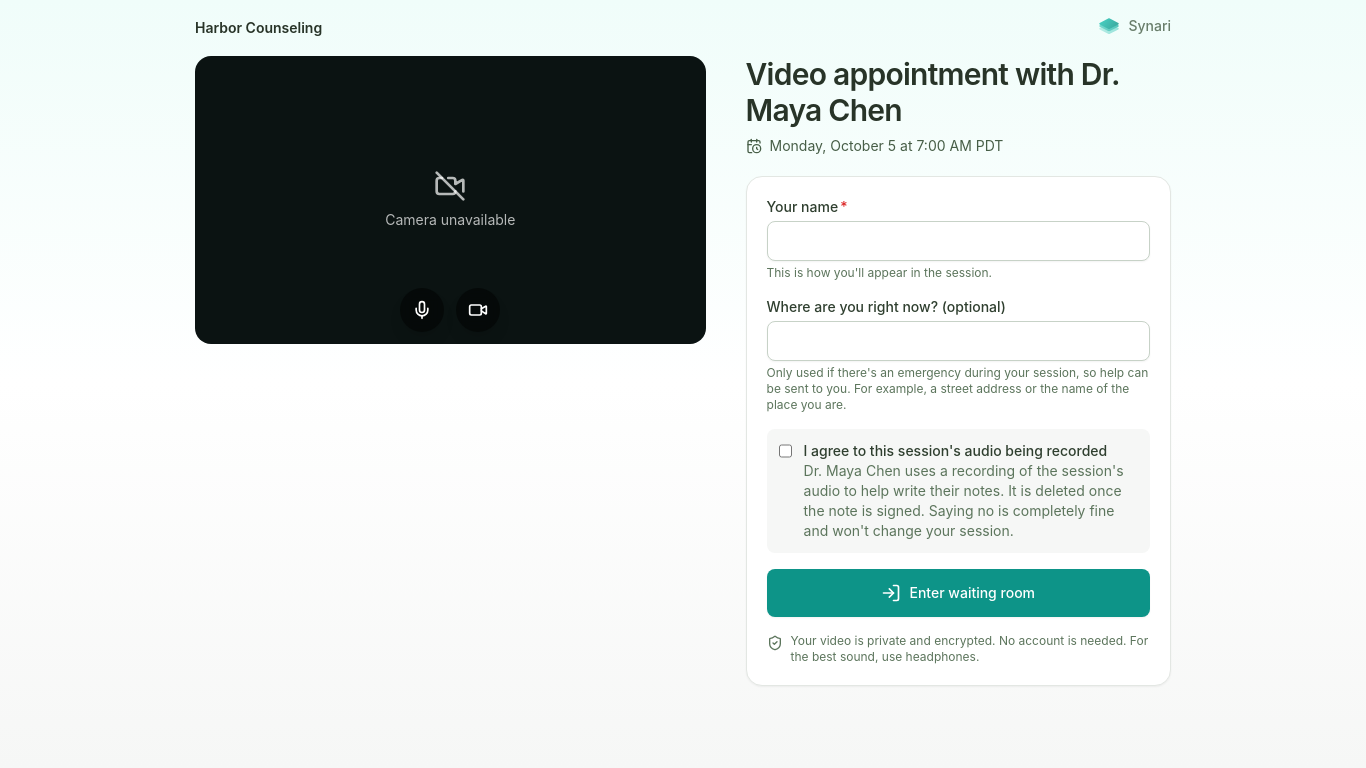
Scenario: guest join form › shows the server message when checking in is refused
Type "Alex" into the field labelled "Your name*" at [958, 241], box [766, 221, 1150, 261]
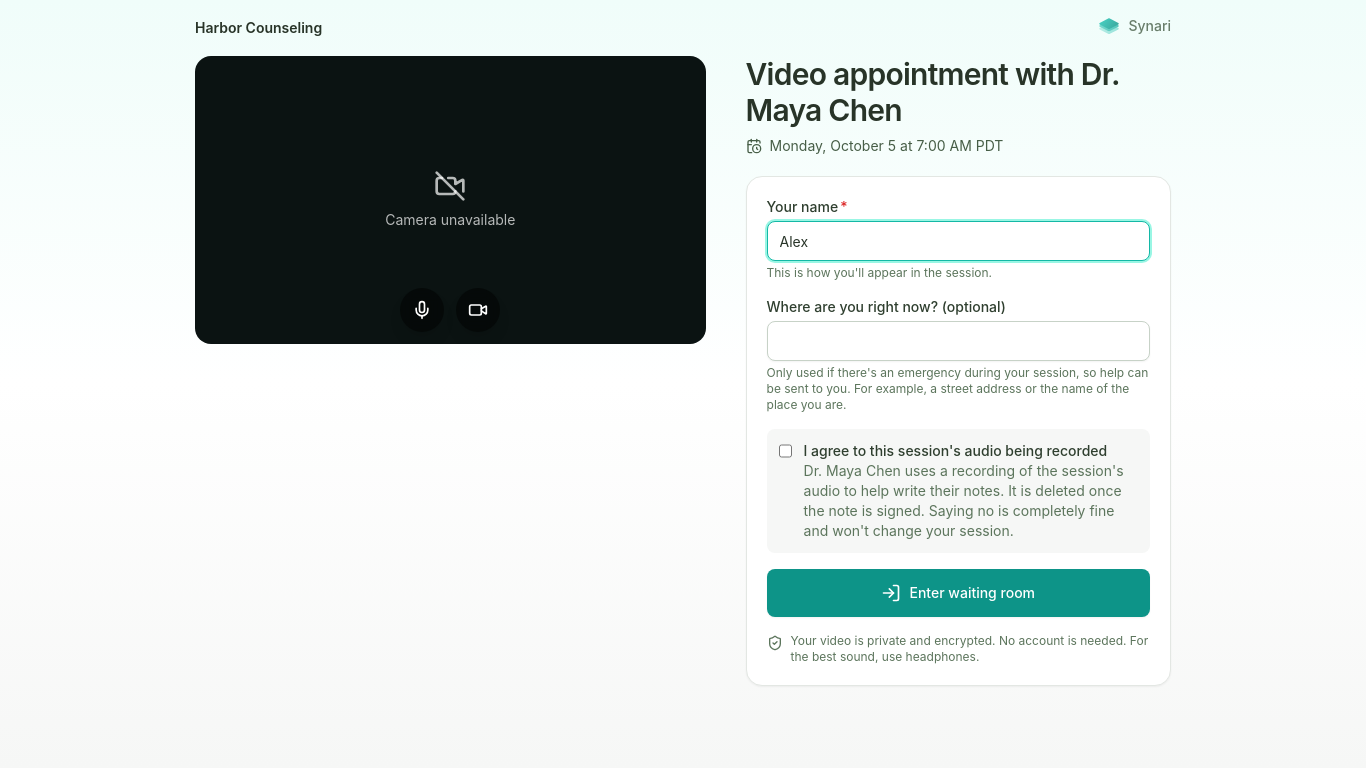
Click the button "Enter waiting room" at [958, 593], box [766, 569, 1150, 617]
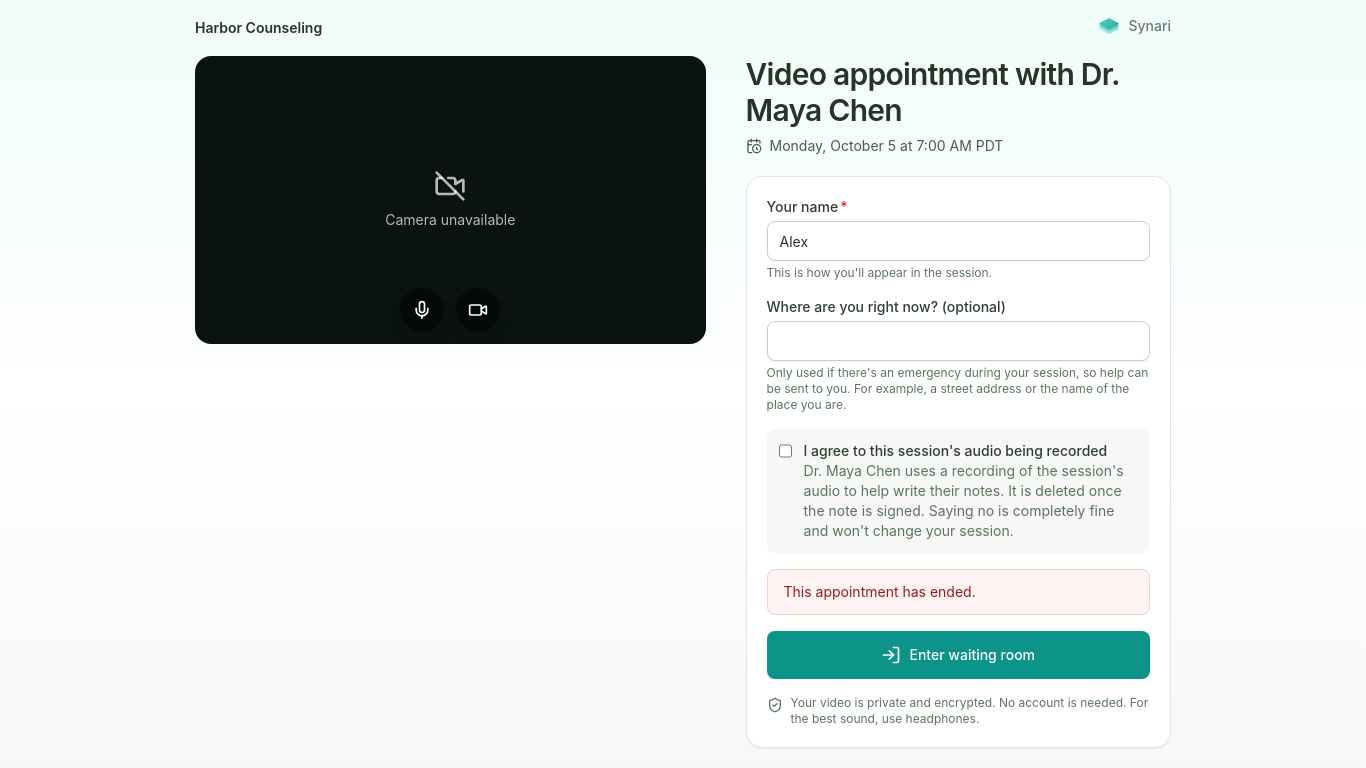
Check: the text "This appointment has ended." is shown, box [784, 583, 976, 600]
